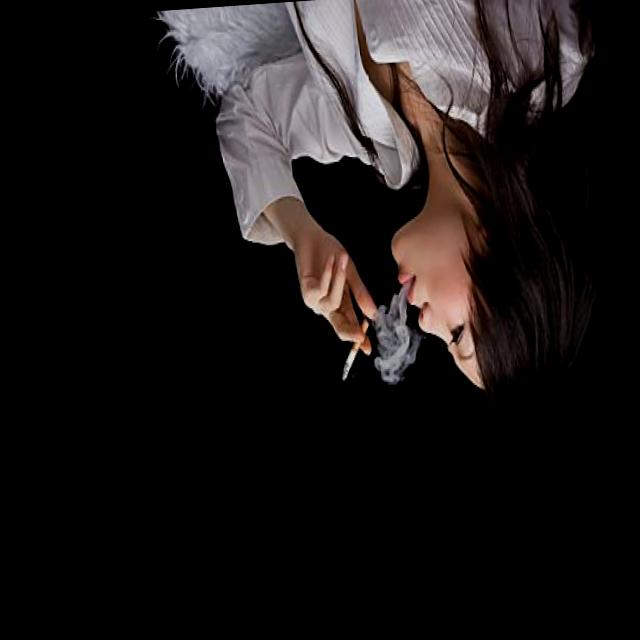smoke: (335, 331, 365, 393)
